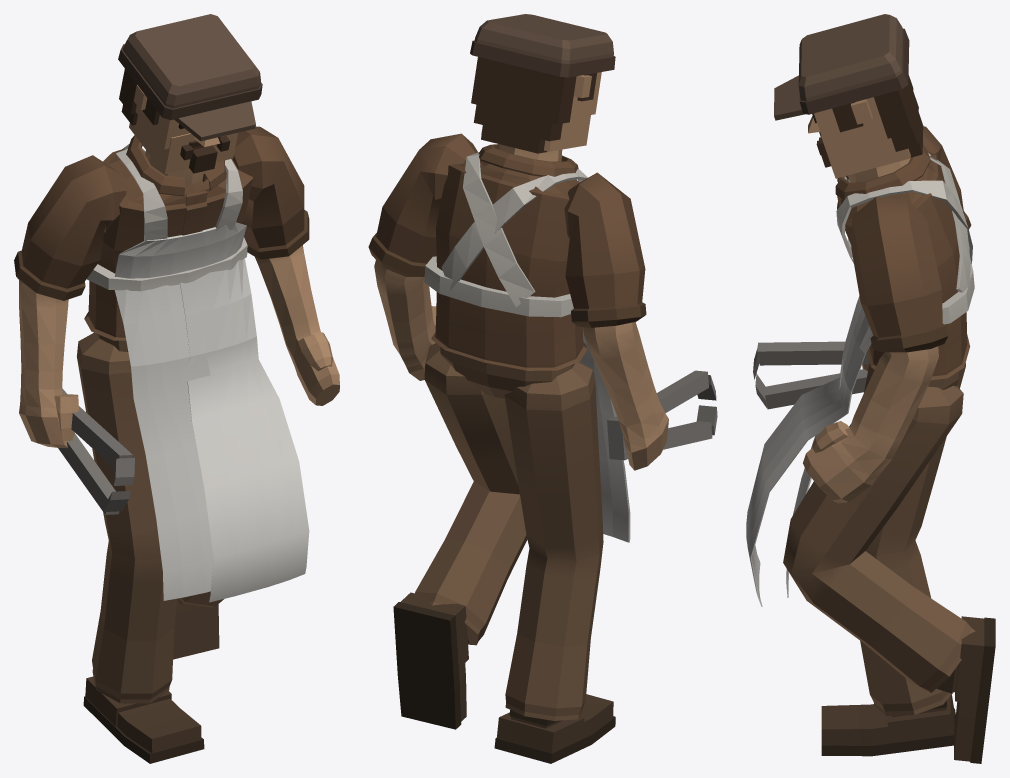
The model's file is street-vendor-139de3__walk6.glb.
3 renders of one model, left to right at view 1: azimuth 30°, elevation 25°; view 2: azimuth 150°, elevation 25°; view 3: azimuth 270°, elevation 25°, orthographic. The views are drawn at different scales.
Parts seen in each view (by area): view 1: street-vendor-139de3__walk6; view 2: street-vendor-139de3__walk6; view 3: street-vendor-139de3__walk6.
Part boxes in pixels (left/top/right/bottom): street-vendor-139de3__walk6: left=14, top=14, right=339, bottom=763; street-vendor-139de3__walk6: left=368, top=14, right=717, bottom=763; street-vendor-139de3__walk6: left=746, top=14, right=995, bottom=763.
Size of the model in its own units: 0.7285 by 1.72 by 0.5358.
